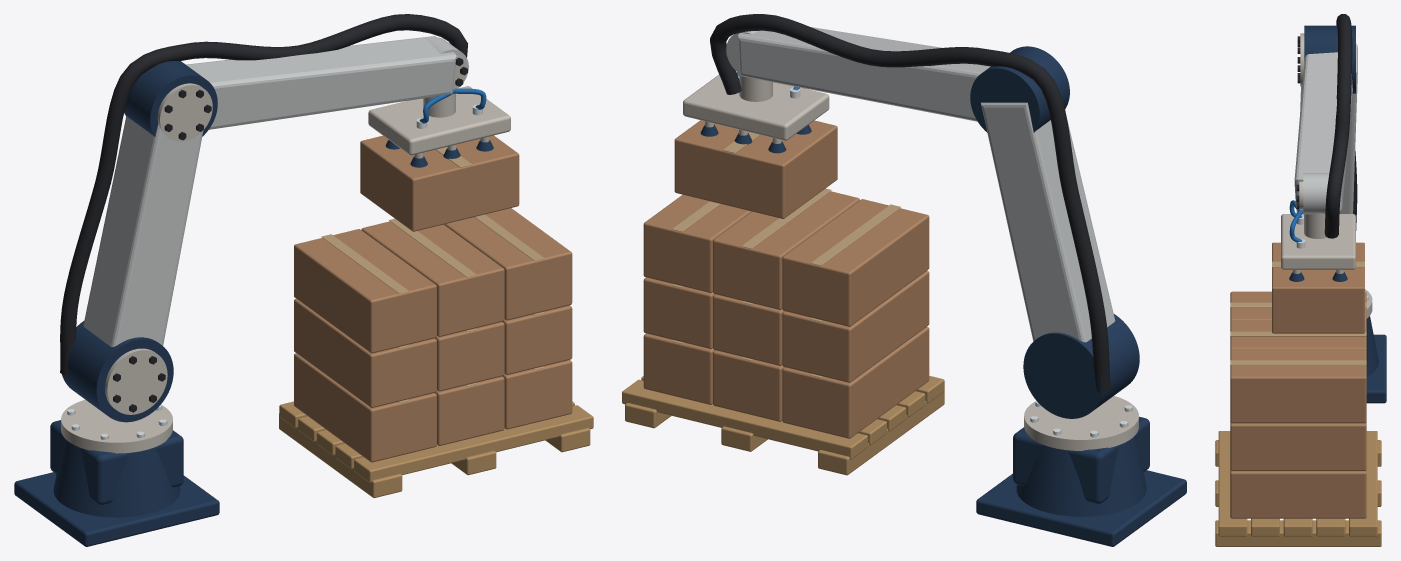
Rendered from robots-32.glb.
3 renders of one model, left to right at view 1: azimuth 30°, elevation 25°; view 2: azimuth 150°, elevation 25°; view 3: azimuth 270°, elevation 25°, orthographic. The views are drawn at different scales.
Parts seen in each view (by area): view 1: stack, pedestal, upper, boom, carried, cables, pallet, shoulder, elbow, manifold, wrist; view 2: stack, pedestal, upper, cables, boom, carried, pallet, shoulder, manifold, elbow, wrist, cups; view 3: stack, pallet, carried, boom, cables, manifold, pedestal, wrist, elbow, upper, vacuum-lines, cups.
Boxes of the visible parts, <box> form: stack: <box>294,208,572,462</box>; pedestal: <box>14,399,219,546</box>; upper: <box>83,116,203,346</box>; boom: <box>186,36,456,129</box>; carried: <box>360,135,519,231</box>; cables: <box>60,14,467,375</box>; pallet: <box>279,401,593,497</box>; shoulder: <box>62,321,173,422</box>; elbow: <box>124,61,217,141</box>; manifold: <box>368,86,510,155</box>; wrist: <box>423,37,468,117</box>; stack: <box>643,188,929,438</box>; pedestal: <box>976,396,1186,546</box>; upper: <box>981,102,1115,342</box>; cables: <box>710,14,1110,392</box>; boom: <box>738,27,990,121</box>; carried: <box>674,120,837,218</box>; pallet: <box>622,376,944,475</box>; shoulder: <box>1023,314,1139,418</box>; manifold: <box>683,72,829,140</box>; elbow: <box>970,46,1069,132</box>; wrist: <box>726,31,772,101</box>; cups: <box>700,121,811,153</box>; stack: <box>1230,291,1366,518</box>; pallet: <box>1215,431,1381,546</box>; carried: <box>1272,242,1364,333</box>; boom: <box>1294,52,1352,211</box>; cables: <box>1324,14,1357,238</box>; manifold: <box>1281,214,1355,269</box>; pedestal: <box>1365,289,1386,403</box>; wrist: <box>1296,173,1329,238</box>; elbow: <box>1297,25,1355,93</box>; upper: <box>1296,43,1357,213</box>; vacuum-lines: <box>1289,200,1302,242</box>; cups: <box>1289,270,1347,281</box>.
Size of the model in its own units: 2.94 by 2.51 by 1.03.
